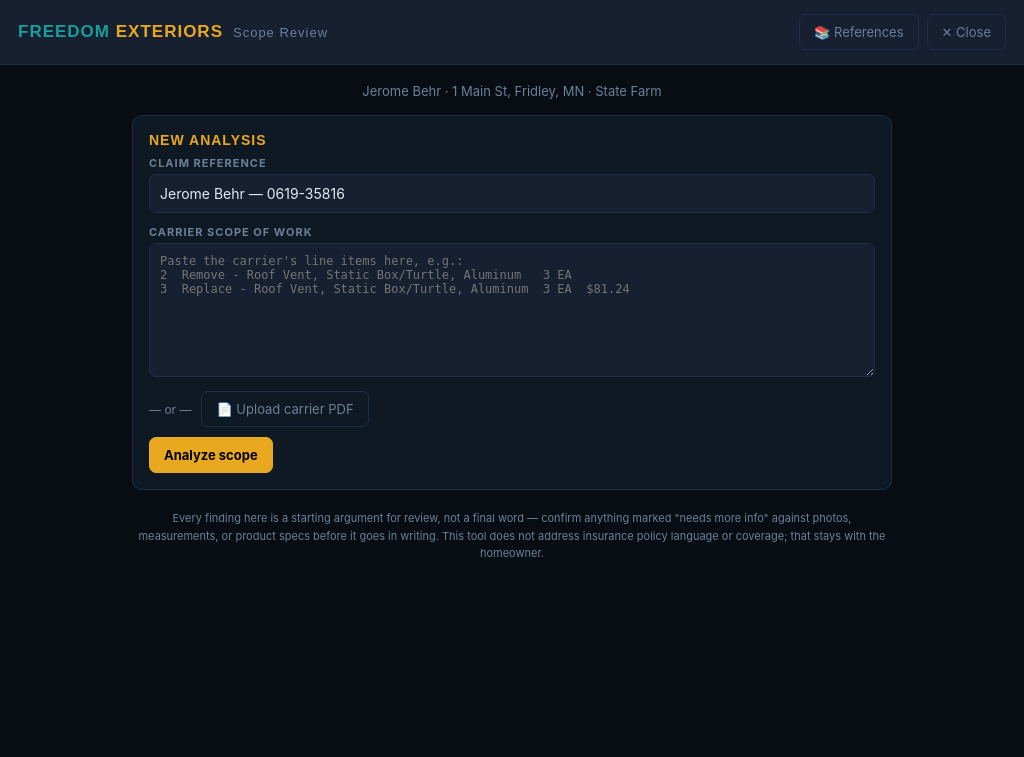
Scenario: pasted scope: extract, analyze in batches of 3, save to job, summaries, share, supplement round + letter
Expected: the field showing "Jerome Behr — 0619-35816" is shown, [149,174,875,213]
Replace the text in the text box with placeholder "Paste the carrier's line items" with "1 Remove shingles": (512, 310) [149,243,875,377]
Click the button "Analyze scope": click(211, 455) [149,437,273,473]
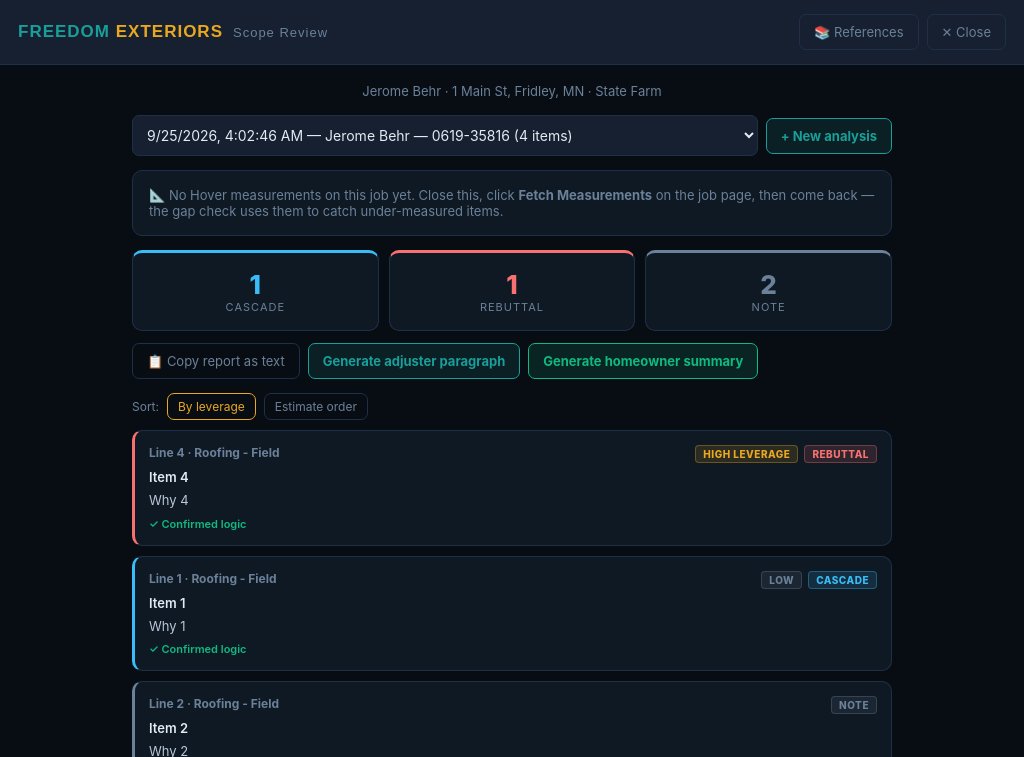
Result: the text "Why 4" is shown at [149,492,189,508]
Click the button "Generate homeowner summary": click(643, 361) [528,343,758,379]
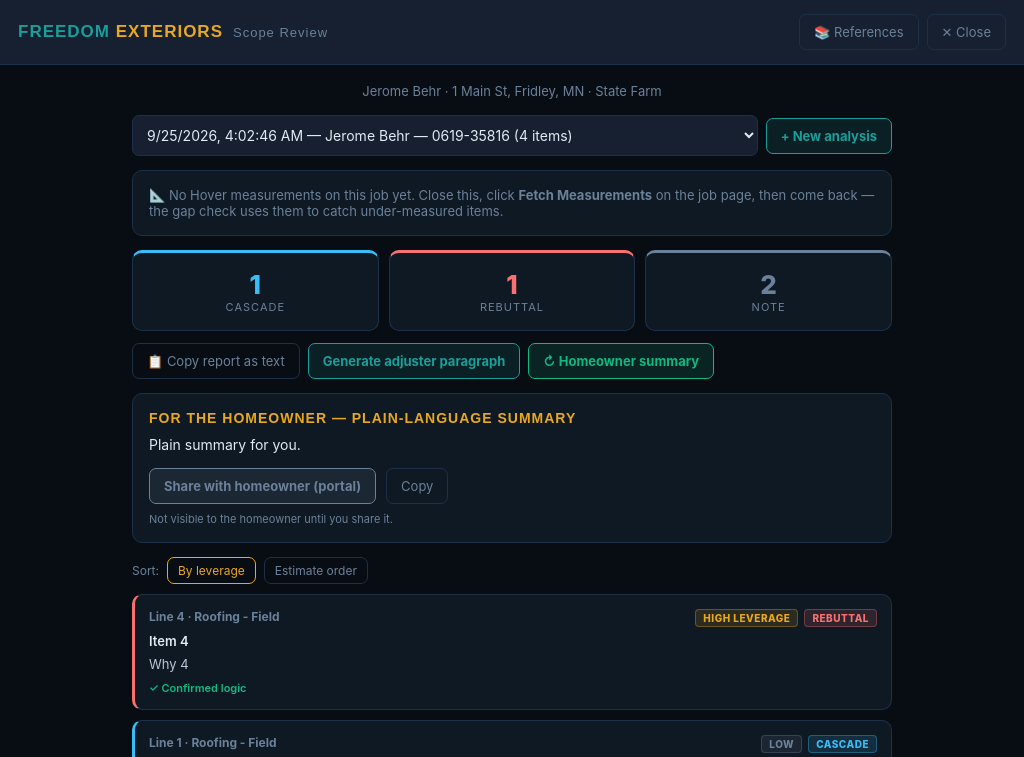
Result: the text "Plain summary for you." is shown at [149,436,301,453]
Result: the text "Not visible to the homeowner until you share it." is shown at [149,512,393,526]
Click the button "Share with homeowner (portal)": click(263, 486) [149,468,376,504]
(page scrolled)
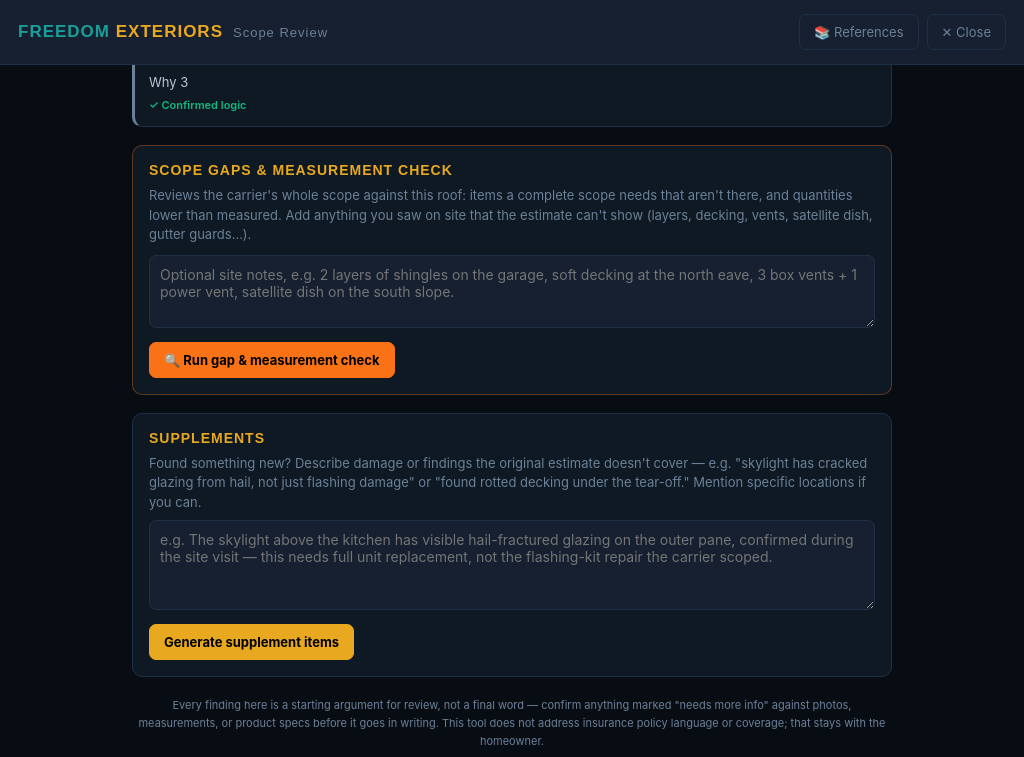
Replace the text in the text box with placeholder "skylight above the kitchen" with "Skylight glazing cracked": (512, 565) [149,520,875,610]
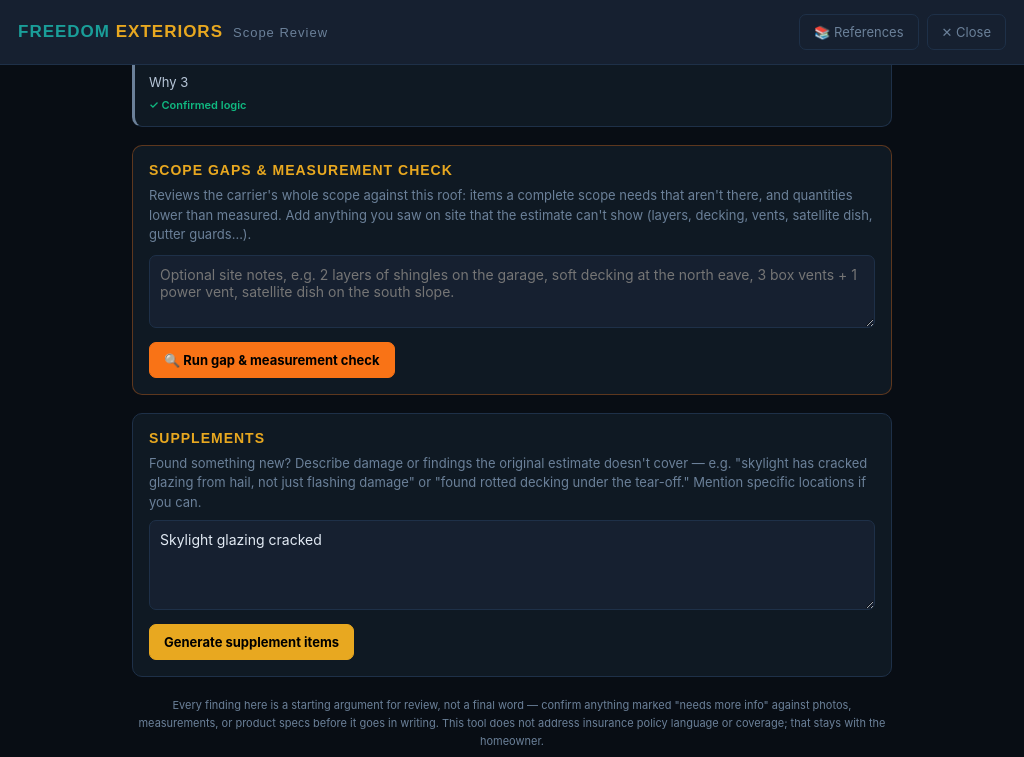
Click the button "Generate supplement items": click(252, 642) [149,624,354,660]
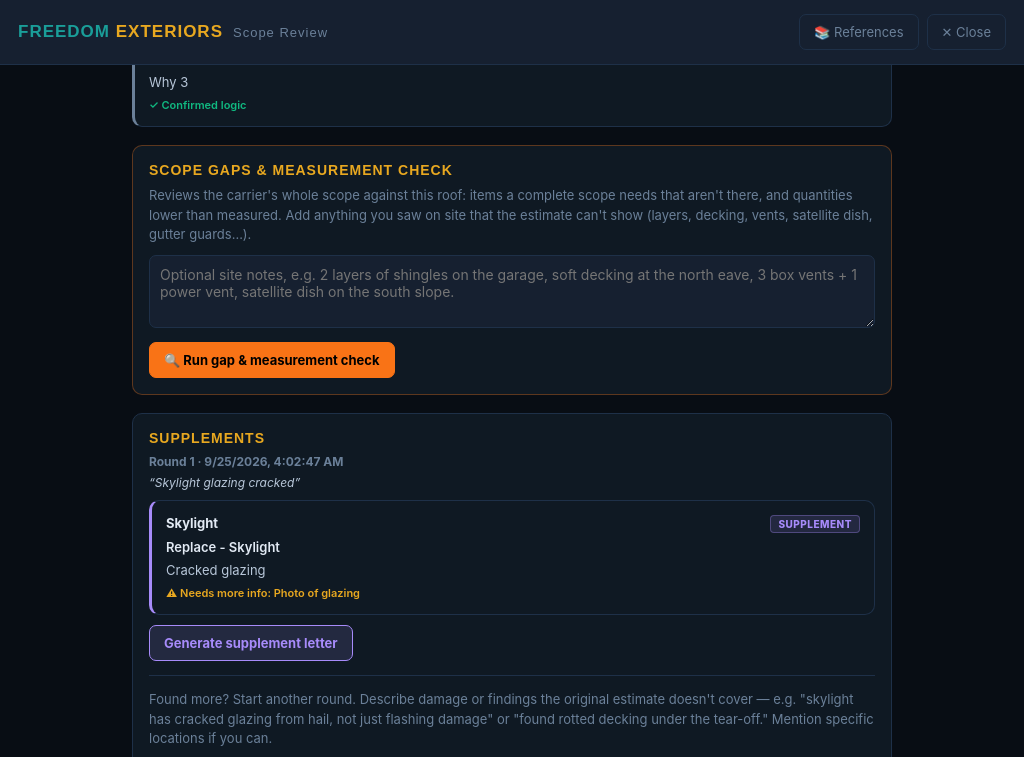
Result: the text "Replace - Skylight" is shown at [166,539,280,555]
Result: the text "⚠ Needs more info: Photo of glazing" is shown at [166,586,360,600]
Click the button "Generate supplement letter": click(251, 643) [149,625,353,661]
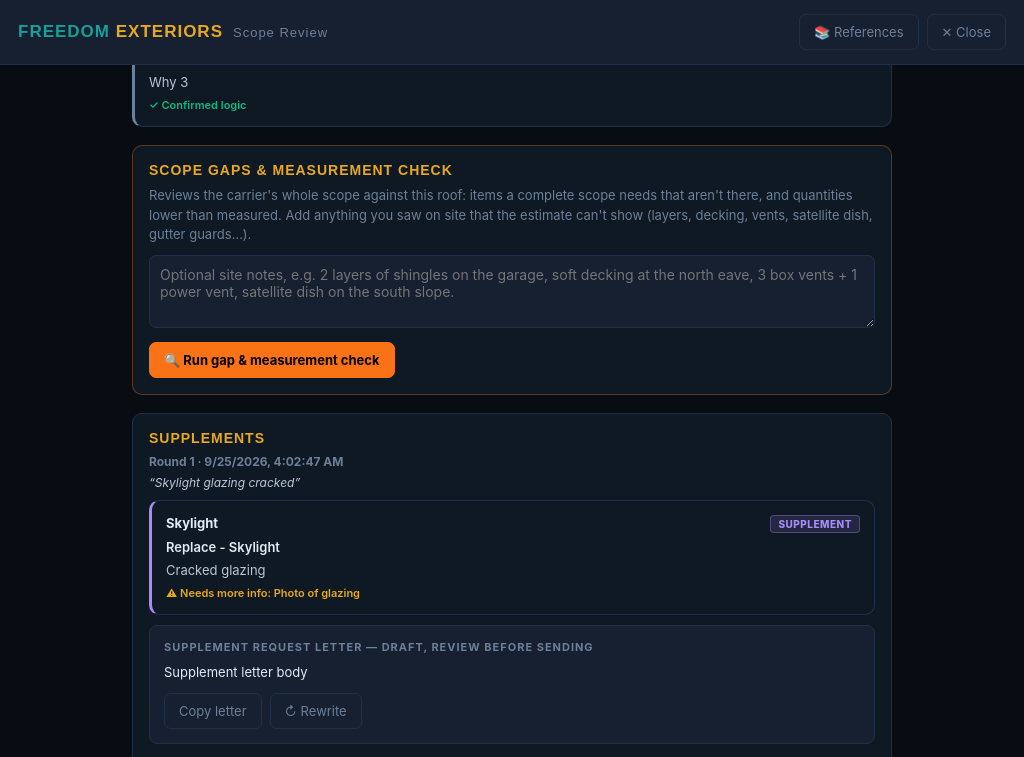
Result: the text "Supplement letter body" is shown at [164,664,308,680]
